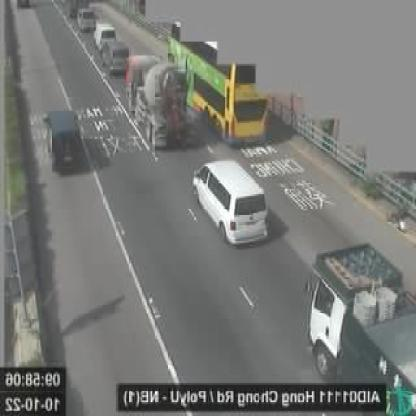Bus: (166, 38, 270, 147)
Car: (307, 240, 413, 402), (192, 156, 268, 245), (44, 110, 82, 172), (17, 0, 29, 8)
Truck: (124, 53, 189, 150), (95, 20, 132, 73)
